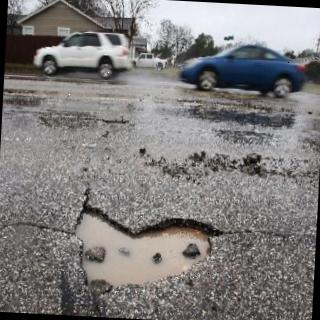pothole: (75, 204, 220, 288)
